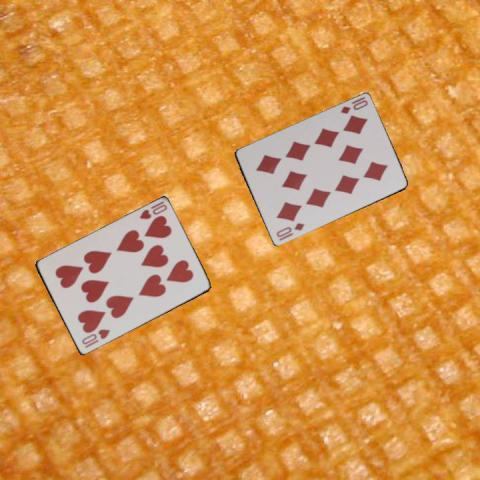10d: (338, 94, 370, 115), (273, 220, 306, 239)
10h: (136, 198, 169, 221), (79, 326, 111, 349)
